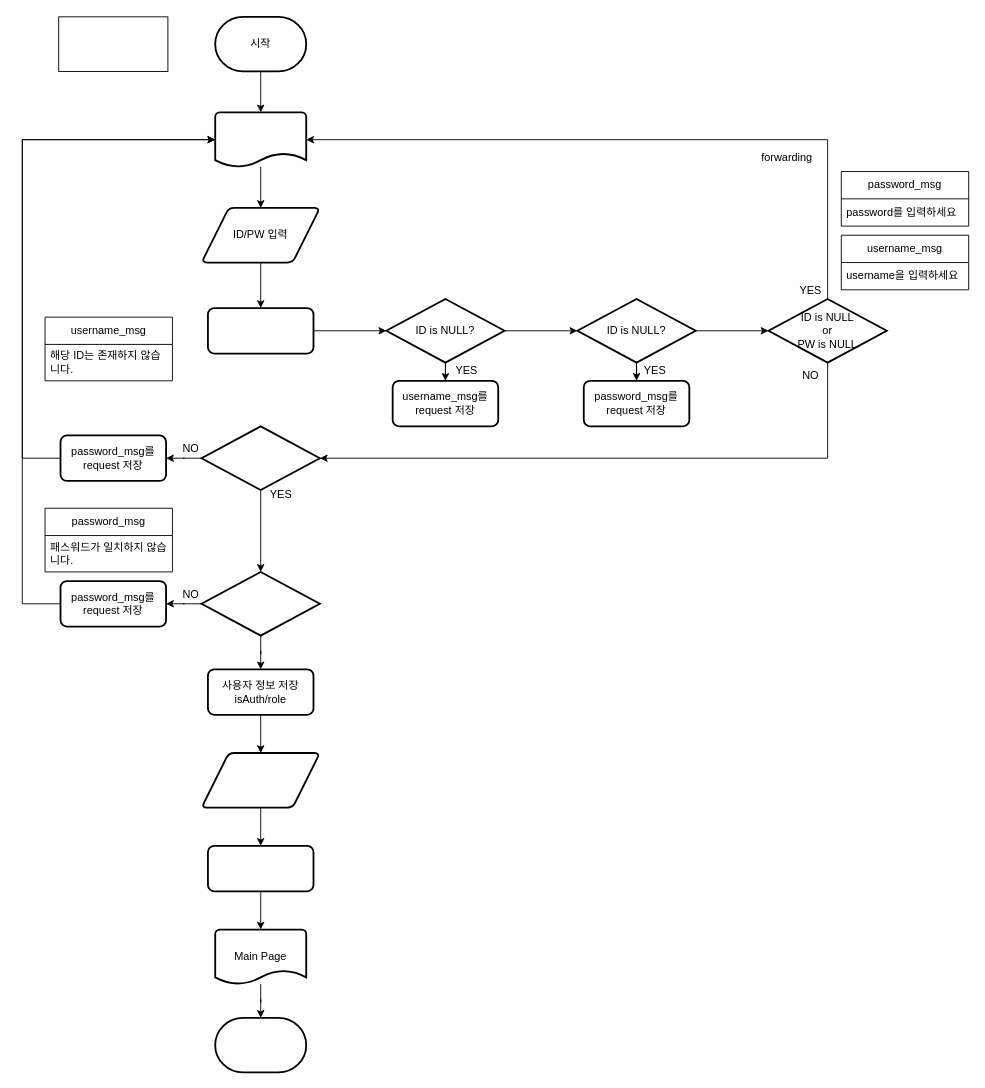
This 985x1088 diagram has some shape labels left out. The shapes that lost their labels are listed below. From the top down, each one's centre as x and y in pixels, then its label:
At [113,43]: "로그인 Process".
At [260,139]: "로그인 폼".
At [260,330]: "유효성 검사 login.jsp".
At [260,457]: "ID is admin?".
At [260,603]: "PW is 1234?".
At [260,780]: "Main Page로 이동 출력".
At [260,868]: "Main Page로 이동".
At [260,1044]: "종료".
